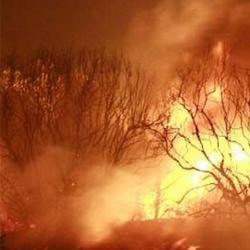fire: (188, 147, 247, 183)
